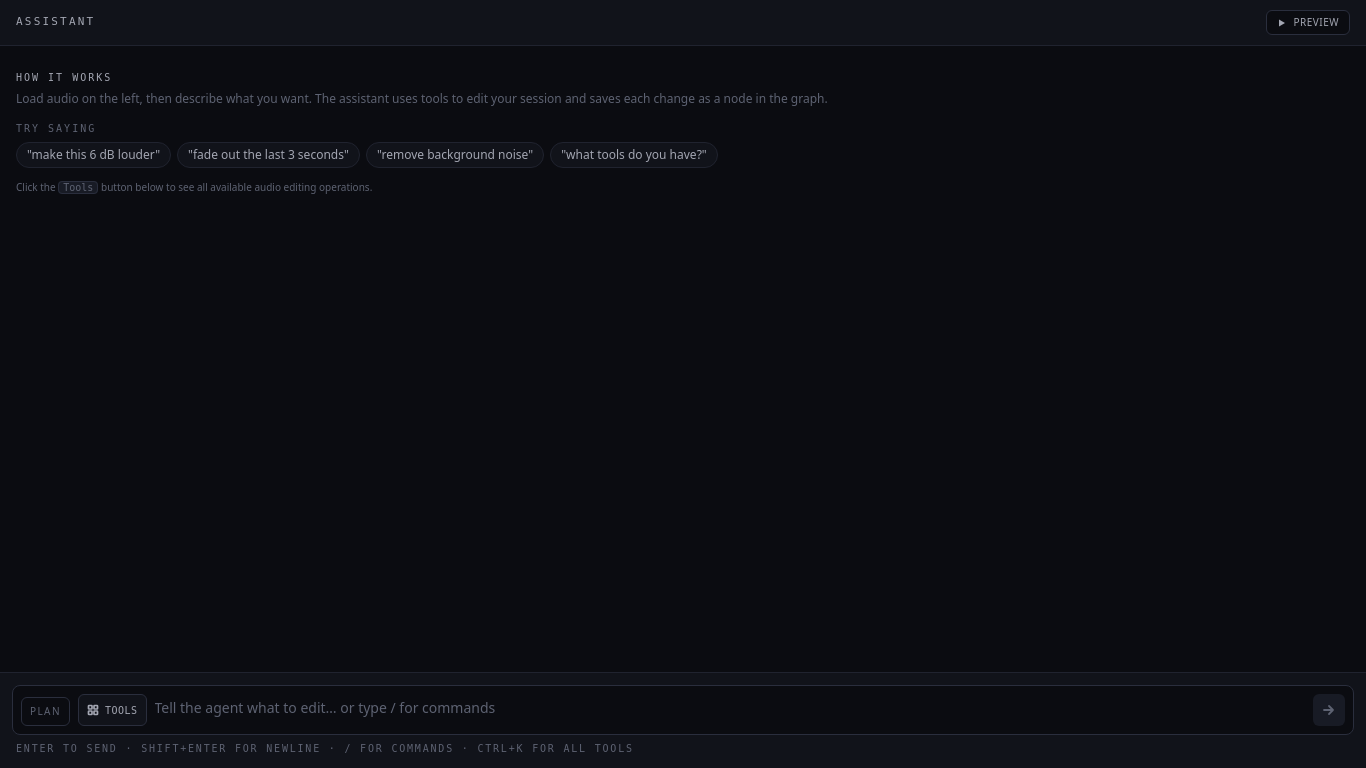
Scenario: Chat › surfaces a friendly error if sendMessage rejects
Step 1. Type "normalize" into the text box named "Message" → {"x": 730, "y": 712}, box [154,698,1305,726]
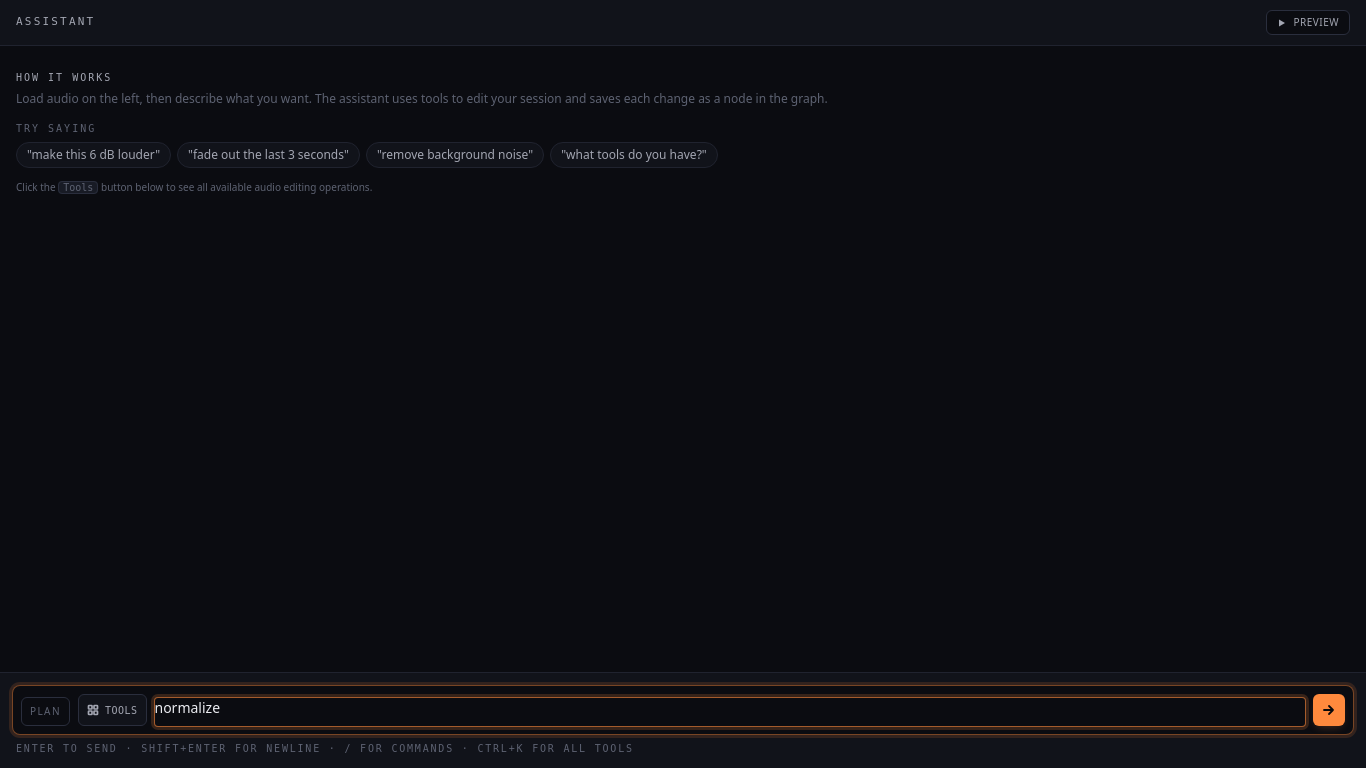
Step 2. Click the button named "send" → {"x": 1329, "y": 710}, box [1313,694,1345,726]
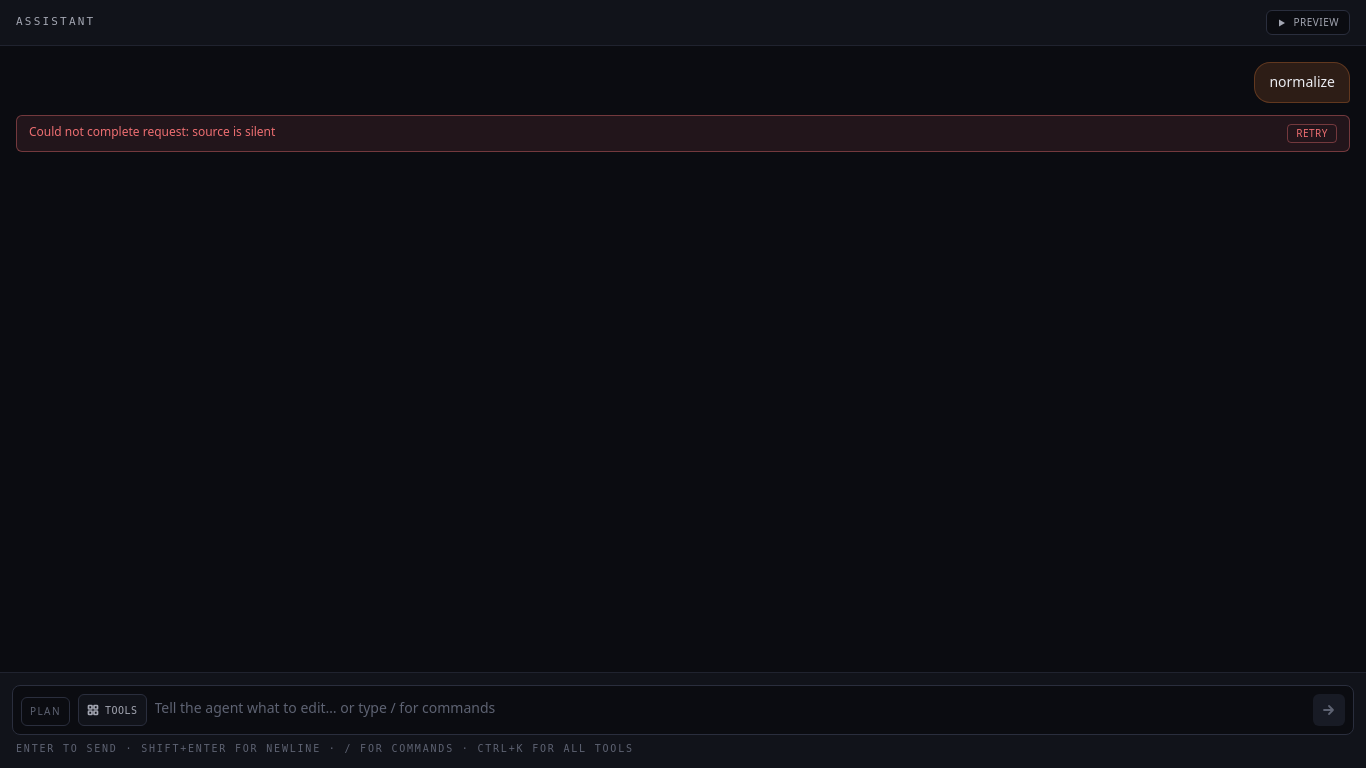
Check: the message with test id "chat-error" shows "source is silent", box [29,123,275,140]
